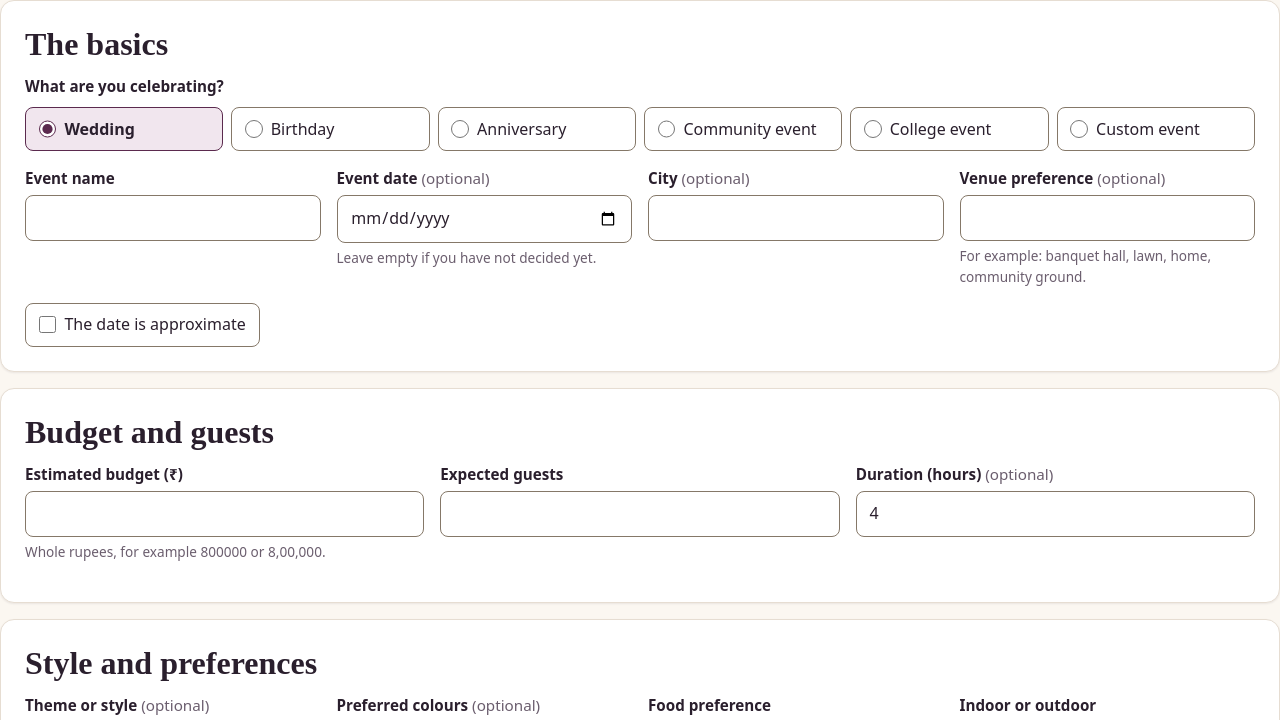
Test: EventForm fields › warns about unusual budget and guest combinations before submitting
The width and height of the screenshot is (1280, 720).
Step 1. Type "Tiny budget" into the field labelled "Event name" → (173, 218), box [25,194,320,240]
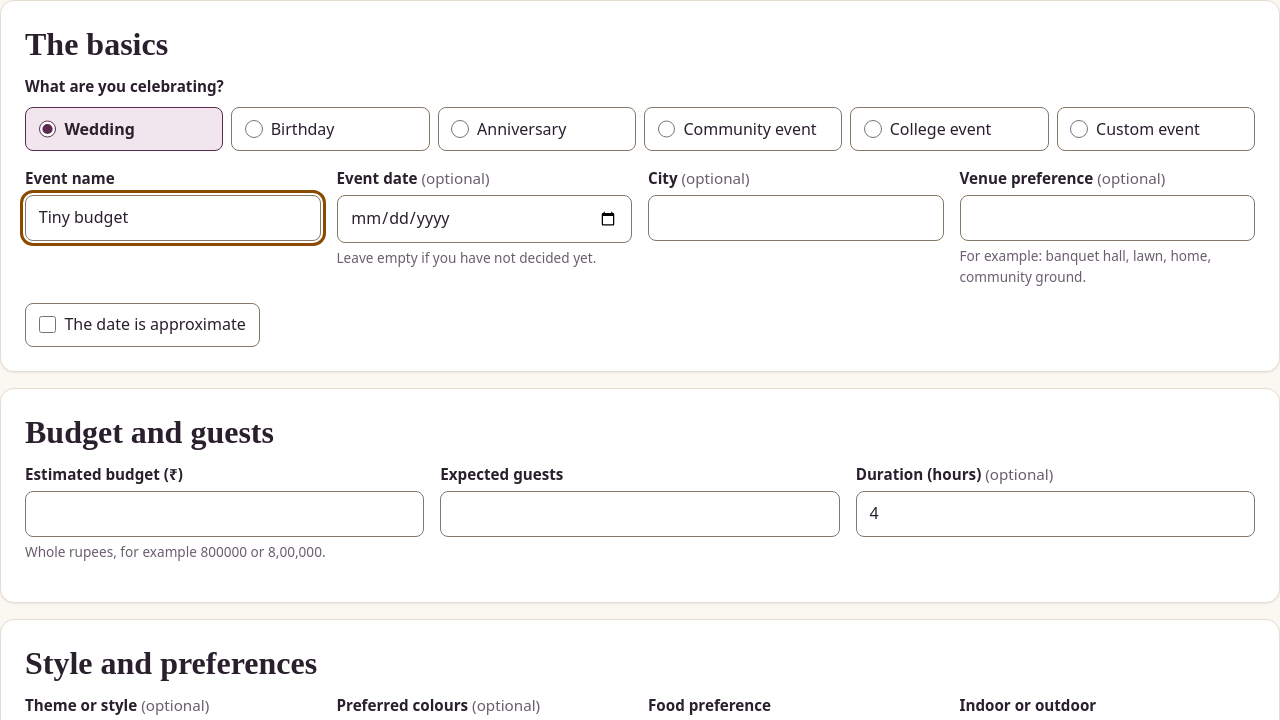
Step 2. Type "2000" into the field labelled "Estimated budget (₹)" → (225, 514), box [25,491,424,537]
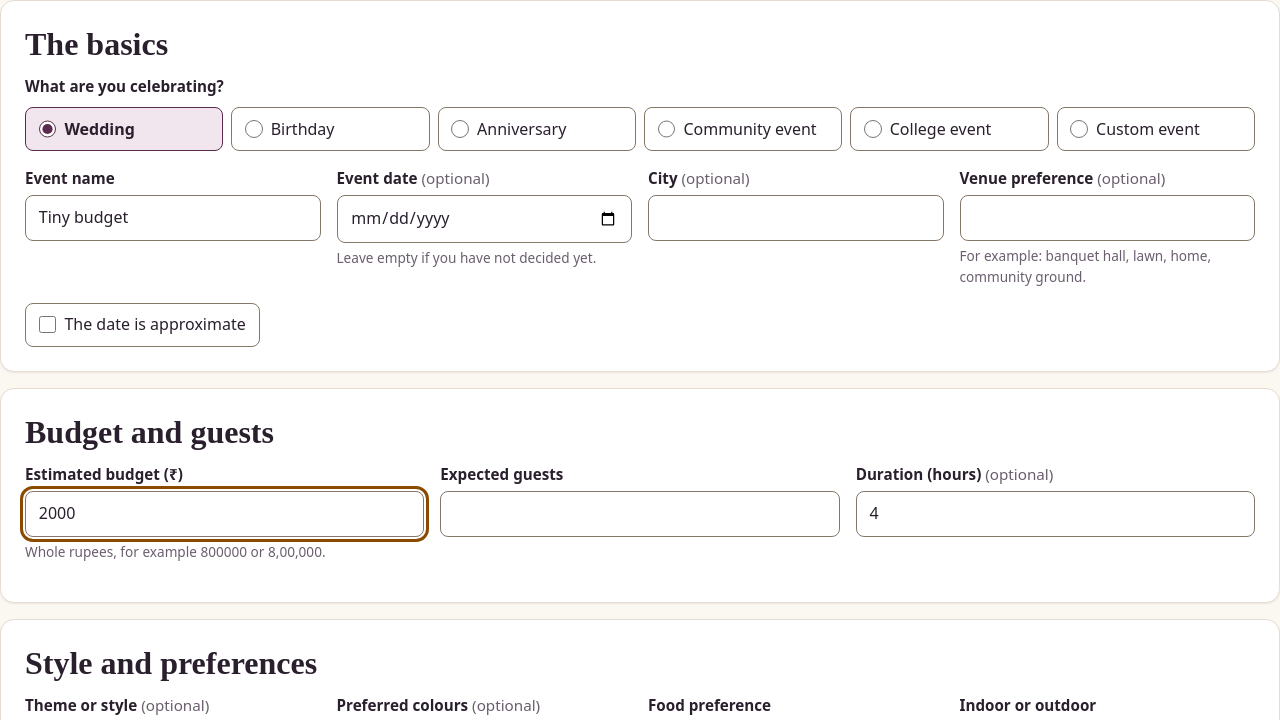
Step 3. Type "500" into the field labelled "Expected guests" → (640, 514), box [440,491,840,537]
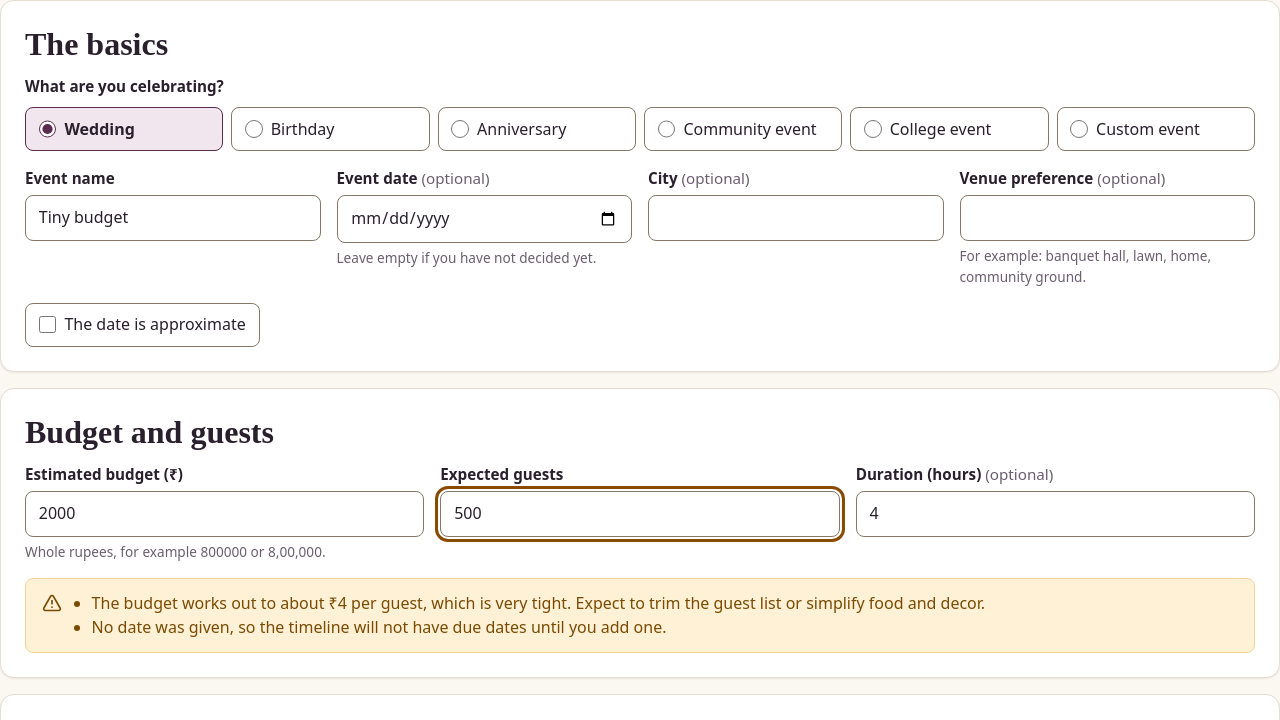
Expected: the list item "very tight" is shown, [92,592,985,614]
